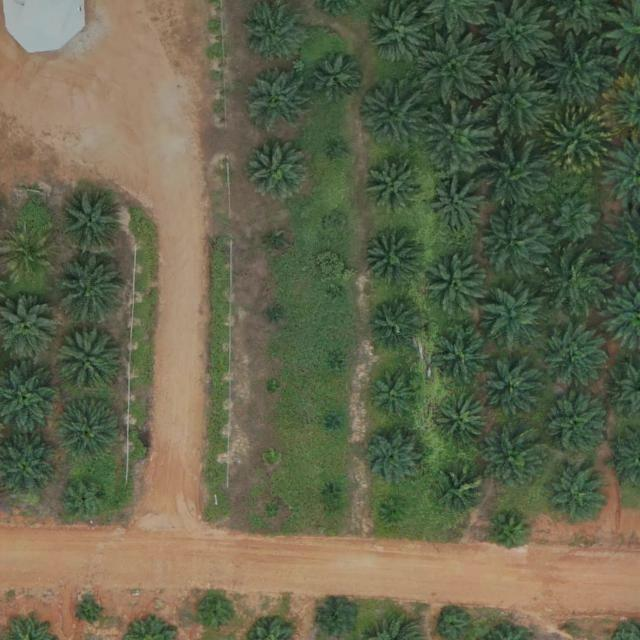Kelapa_Sawit: (420, 34, 490, 105), (478, 140, 548, 211), (481, 205, 551, 276), (421, 100, 491, 171), (357, 79, 427, 150), (546, 35, 616, 105), (540, 104, 610, 174), (476, 69, 546, 139), (357, 422, 427, 492), (56, 252, 126, 322), (484, 0, 547, 64), (480, 285, 542, 348), (424, 253, 486, 316), (429, 323, 491, 386), (245, 68, 307, 131), (244, 136, 306, 199), (483, 428, 545, 491), (542, 393, 604, 456), (545, 462, 607, 525), (58, 190, 120, 253), (0, 360, 54, 432), (369, 2, 431, 64), (546, 250, 608, 312), (542, 325, 604, 387), (55, 327, 117, 389), (58, 399, 120, 461), (244, 0, 304, 60), (0, 290, 52, 358), (1, 223, 52, 283), (369, 367, 424, 422), (367, 299, 422, 354), (435, 394, 490, 449), (485, 364, 539, 419), (430, 177, 484, 232), (367, 156, 421, 211), (363, 233, 417, 288), (308, 49, 362, 104), (0, 433, 52, 487), (62, 475, 108, 522), (552, 195, 598, 242), (434, 465, 480, 511), (489, 508, 528, 547), (316, 600, 355, 639), (197, 595, 235, 634), (76, 596, 103, 624), (325, 214, 348, 237), (383, 499, 406, 522), (265, 230, 283, 247), (333, 142, 348, 157), (329, 285, 344, 300), (328, 357, 343, 372), (268, 307, 283, 322), (265, 380, 280, 395), (263, 450, 278, 465), (265, 503, 280, 518), (327, 414, 342, 429), (323, 483, 338, 498)
